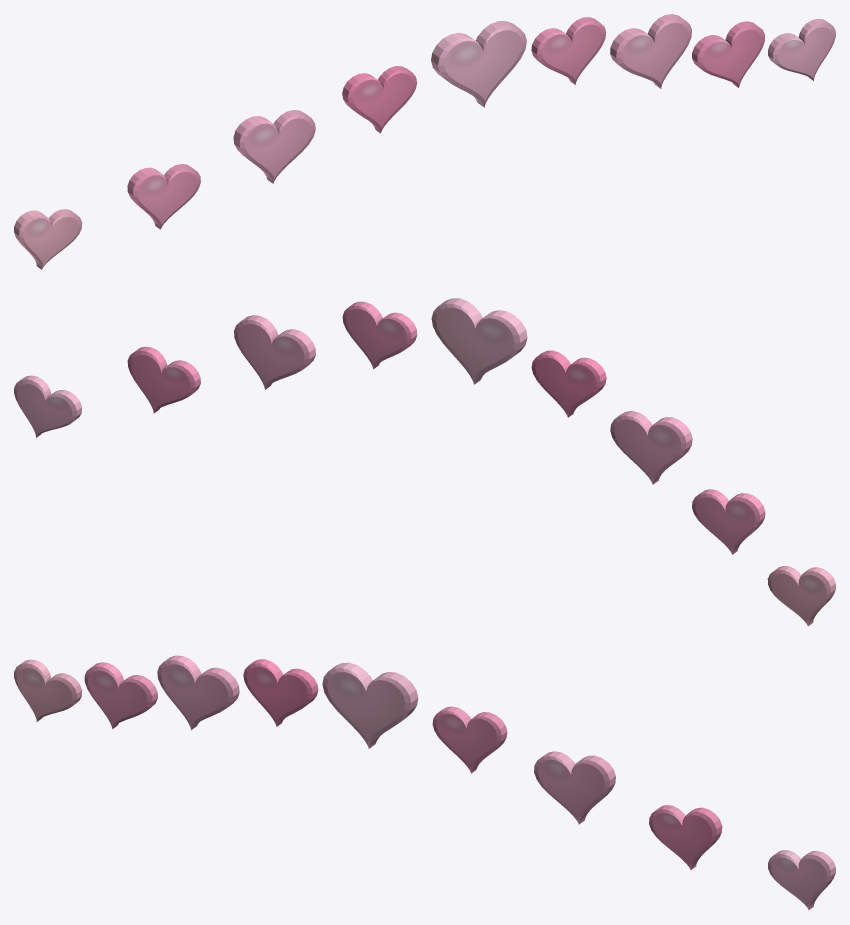
Rendered from heart_mood_crown_lod_b.glb.
3 views of the same model, one above another, from view 1: azimuth 30°, elevation 25°; view 2: azimuth 150°, elevation 25°; view 3: azimuth 330°, elevation 25° (orthographic).
Visible parts, largest first — view 1: HeartMood_Crown_Pivot; view 2: HeartMood_Crown_Pivot; view 3: HeartMood_Crown_Pivot.
Part boxes in pixels (<box>): HeartMood_Crown_Pivot: <box>14,14,835,269</box>; HeartMood_Crown_Pivot: <box>14,298,835,626</box>; HeartMood_Crown_Pivot: <box>14,655,835,910</box>.
Size of the model in its own units: 0.9277 by 0.2002 by 0.1215.
Materials: 1 (1 with a texture image).
